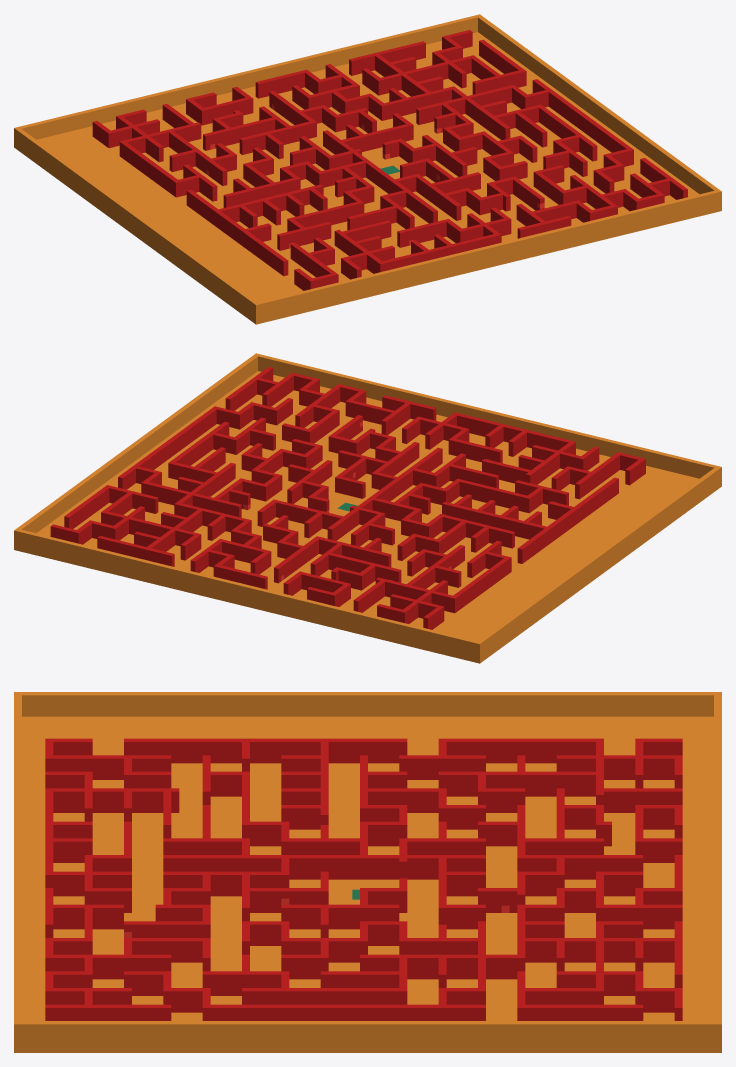
Rendered from maze.obj.
3 views of the same model, one above another, from view 1: azimuth 30°, elevation 25°; view 2: azimuth 150°, elevation 25°; view 3: azimuth 270°, elevation 25° (orthographic). The views are drawn at different scales.
Size of the model in its own units: 10 by 0.4 by 9.
Materials: 1 (1 with a texture image).
